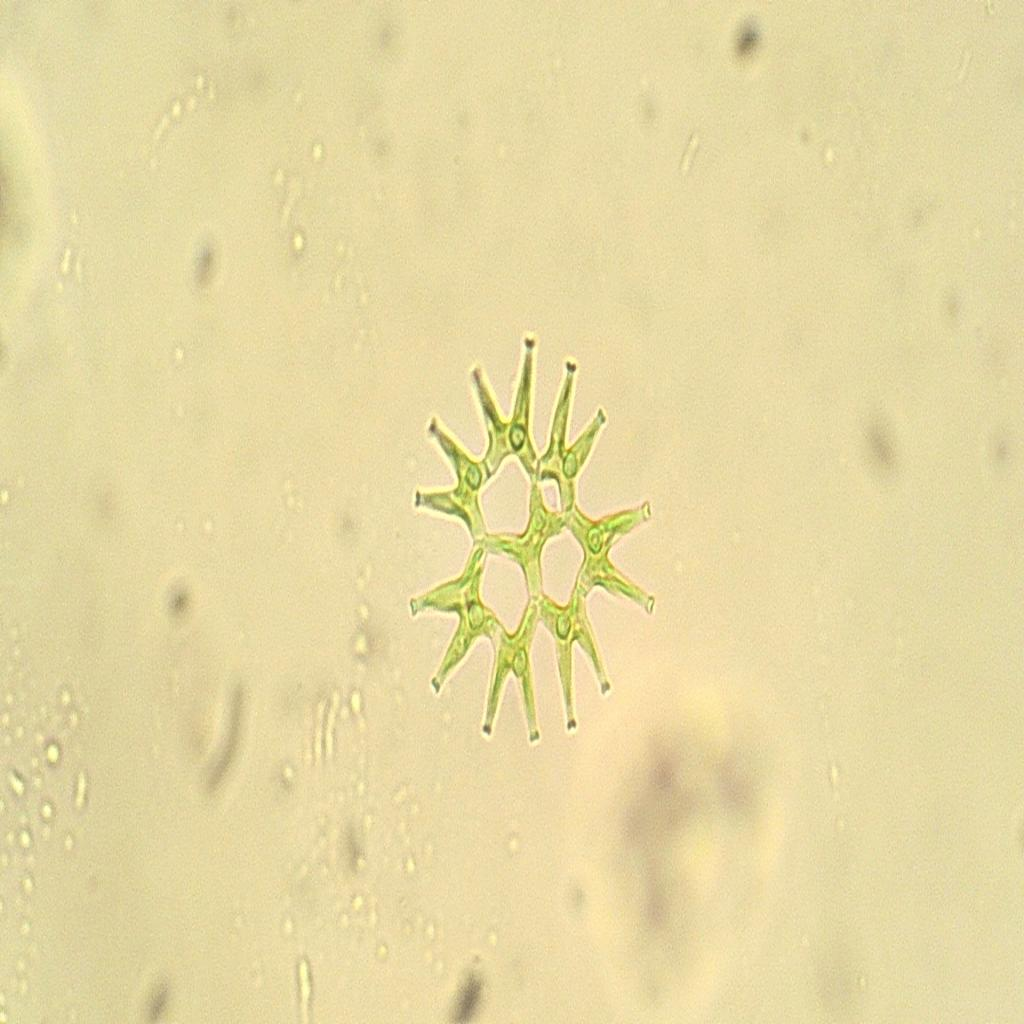Pediastrum_75T: (397, 320, 665, 760)
